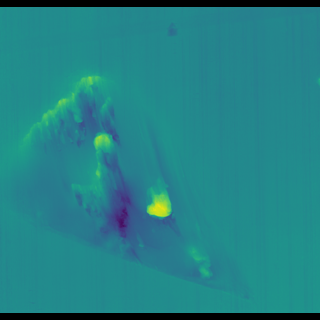Loch: (19, 68, 224, 279)
